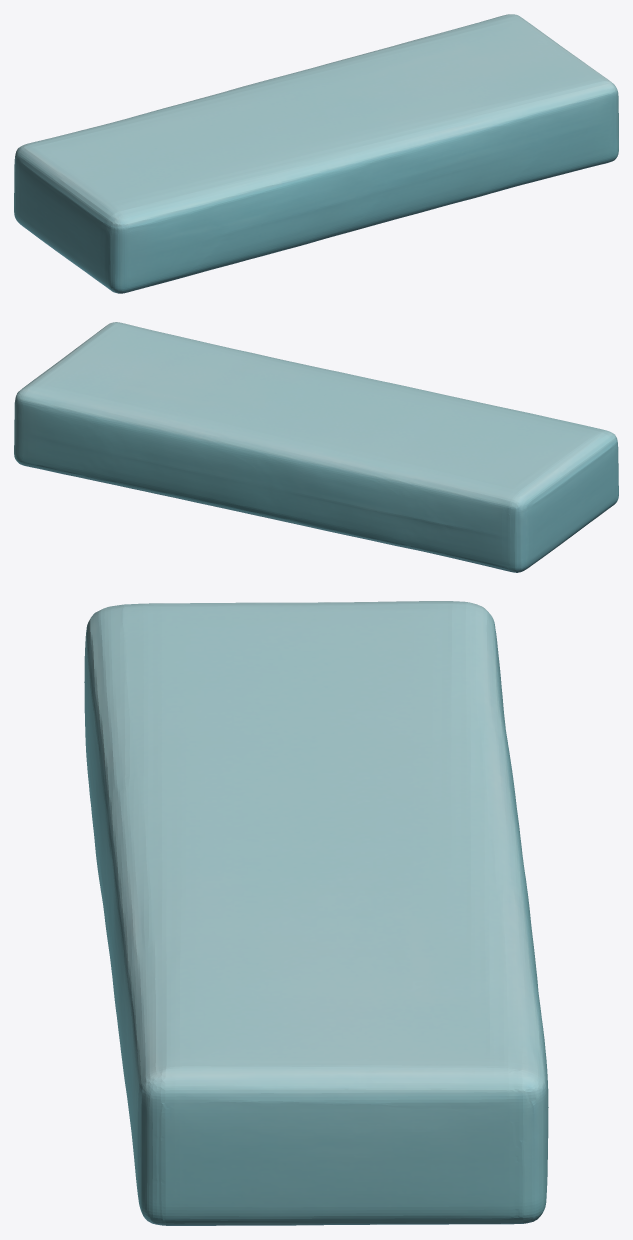
The model's file is obj2_sam3d_obb.glb.
The picture shows the model from 3 angles, top to bottom: view 1: azimuth 30°, elevation 25°; view 2: azimuth 150°, elevation 25°; view 3: azimuth 270°, elevation 25°; orthographic projection. The views are drawn at different scales.
Visible parts, largest first — view 1: world; view 2: world; view 3: world.
Boxes of the visible parts, x1=… form: world: x1=14, y1=14, x2=618, y2=293; world: x1=14, y1=322, x2=618, y2=572; world: x1=84, y1=601, x2=548, y2=1225.
Bounding box in the file's own units: 0.0989 × 0.0148 × 0.0396.
